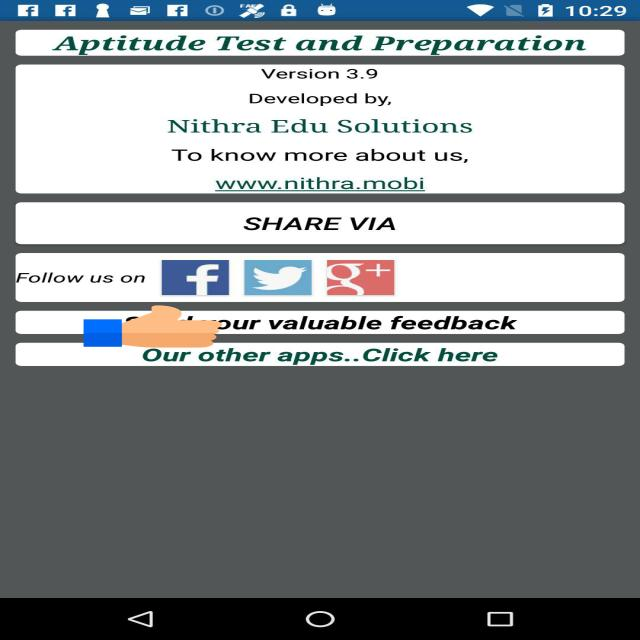privacy zuckering: (84, 304, 222, 349)
